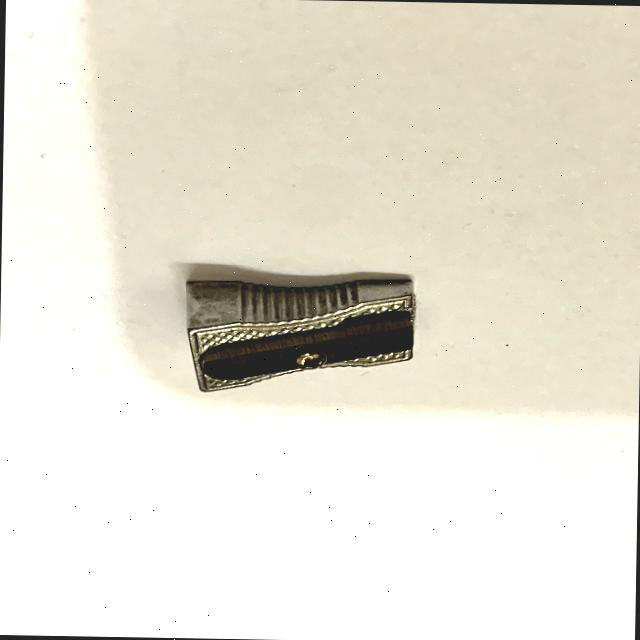Sharpner: (139, 239, 453, 418)
